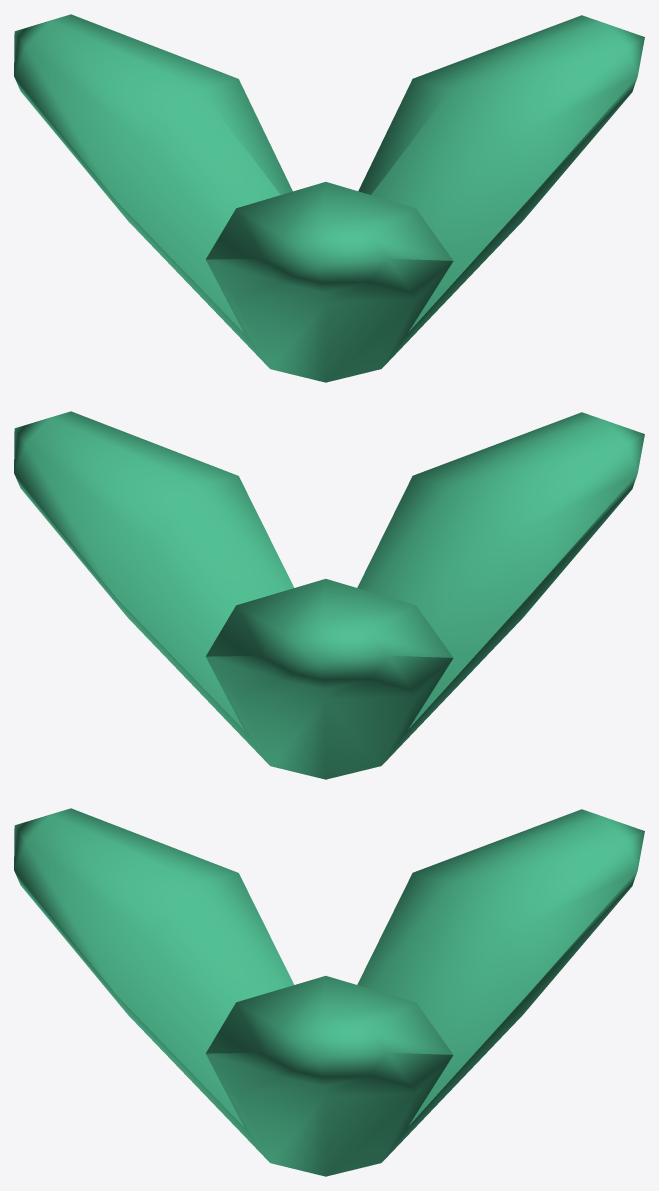
File: grass.fbx
3 renders of one model, top to bottom at view 1: azimuth 30°, elevation 25°; view 2: azimuth 150°, elevation 25°; view 3: azimuth 270°, elevation 25°, orthographic.
Parts seen in each view (by area): view 1: grass; view 2: grass; view 3: grass.
Part boxes in pixels (left/top/right/bottom): grass: left=14, top=14, right=644, bottom=382; grass: left=14, top=411, right=644, bottom=779; grass: left=14, top=808, right=644, bottom=1176.
Bounding box in the file's own units: 0.2899 × 0.1467 × 0.3152.
